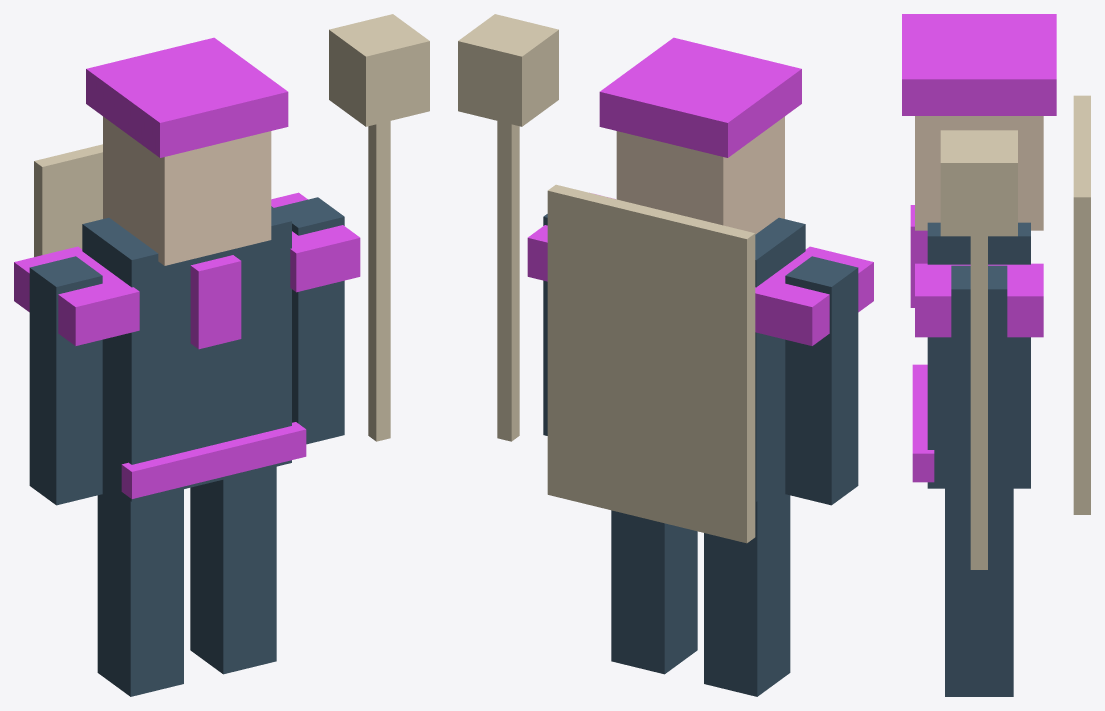
The model's file is 13_brant_skyharrow_runner_under_hidden.glb.
3 renders of one model, left to right at view 1: azimuth 30°, elevation 25°; view 2: azimuth 150°, elevation 25°; view 3: azimuth 270°, elevation 25°, orthographic. The views are drawn at different scales.
Parts seen in each view (by area): view 1: Brant Skyharrow, Runner under Hidden; view 2: Brant Skyharrow, Runner under Hidden; view 3: Brant Skyharrow, Runner under Hidden.
Boxes of the visible parts, x1,y1,x2,y2 form: Brant Skyharrow, Runner under Hidden: (14, 14, 429, 696); Brant Skyharrow, Runner under Hidden: (458, 14, 873, 696); Brant Skyharrow, Runner under Hidden: (902, 14, 1090, 696).
Size of the model in its own units: 1.05 by 1.59 by 0.4447.
